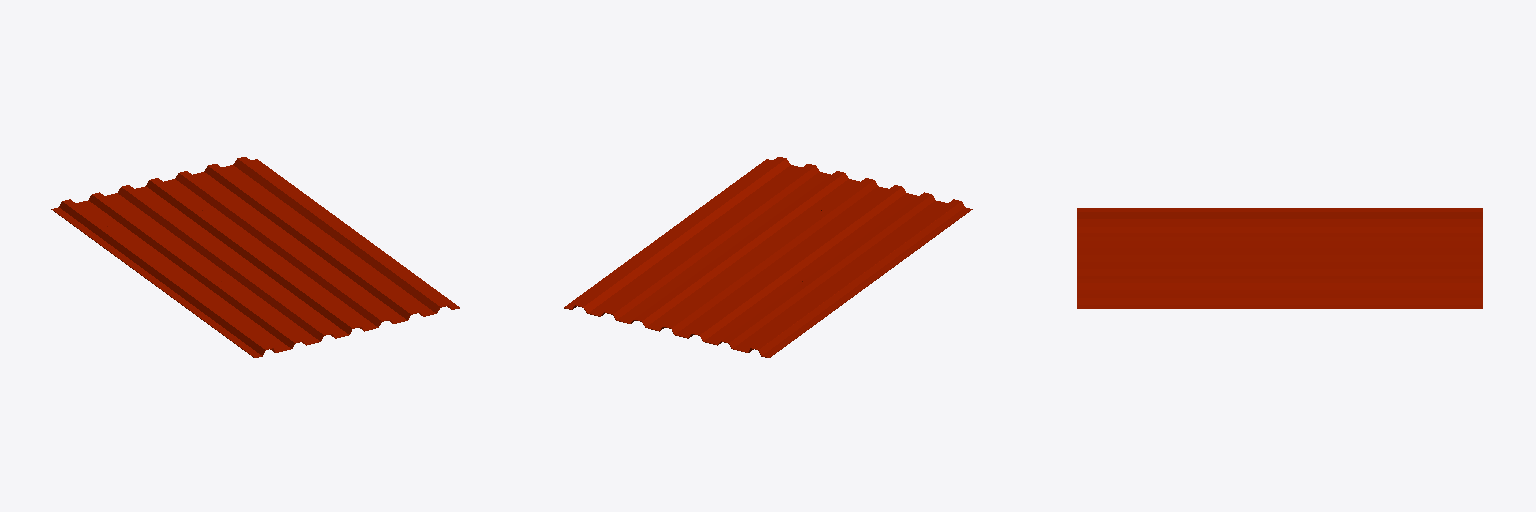
The model's file is EPAroofMetalSheet107-183cm.obj.
The picture shows the model from 3 angles: view 1: azimuth 30°, elevation 25°; view 2: azimuth 150°, elevation 25°; view 3: azimuth 270°, elevation 25°; orthographic projection.
Visible parts, largest first — view 1: EpaRoofMetalSheet1070x1830_Cube; view 2: EpaRoofMetalSheet1070x1830_Cube; view 3: EpaRoofMetalSheet1070x1830_Cube.
Boxes of the visible parts, box(x1,y1,x2,y2) form: EpaRoofMetalSheet1070x1830_Cube: box(51, 157, 459, 357); EpaRoofMetalSheet1070x1830_Cube: box(564, 157, 972, 357); EpaRoofMetalSheet1070x1830_Cube: box(1077, 208, 1482, 308).
Bounding box in the file's own units: 2.14 × 0.0606 × 3.66.